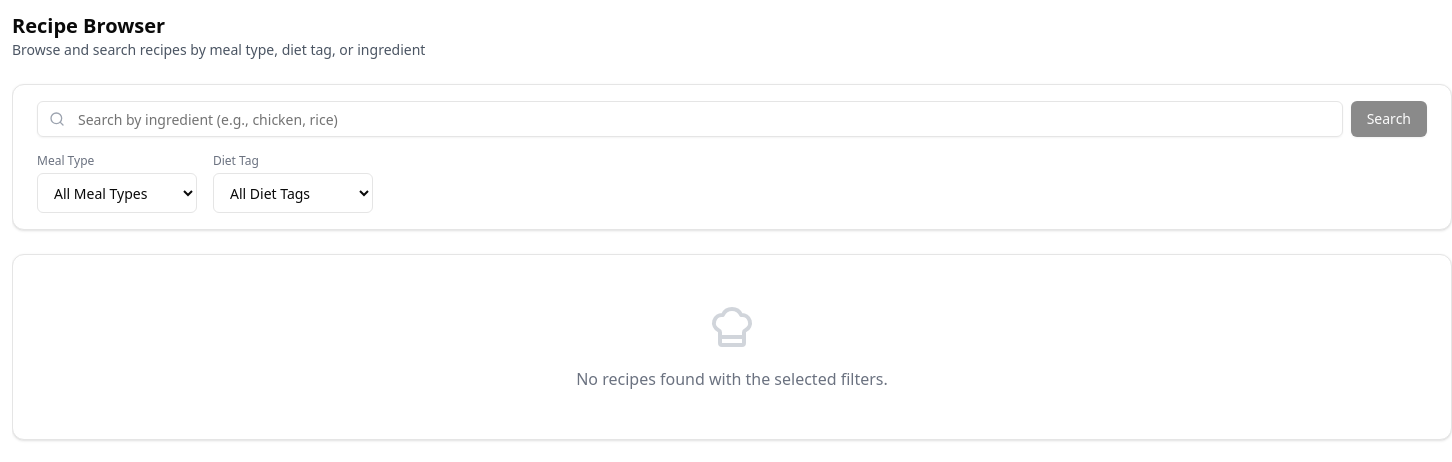
Test: RecipeBrowser › ingredient search › should show empty state with clear link when no search results
The width and height of the screenshot is (1452, 462).
Type "xyz" into the field with placeholder "Search by ingredient (e.g., chicken, rice)" at (690, 119), box [37, 101, 1343, 137]
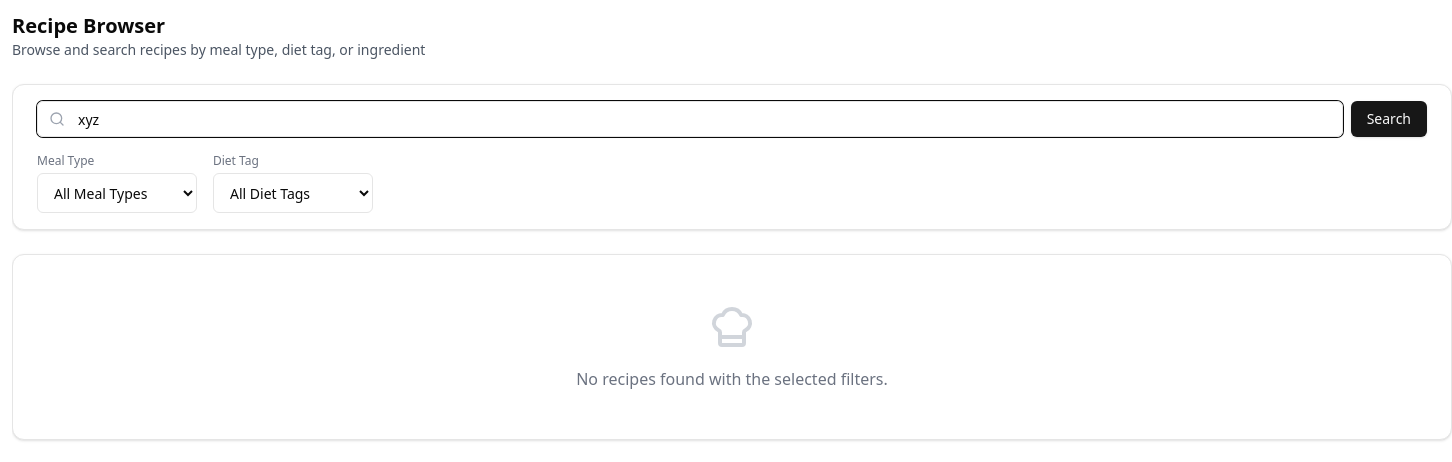
Click the button "Search" at (1389, 119), box [1351, 101, 1427, 137]
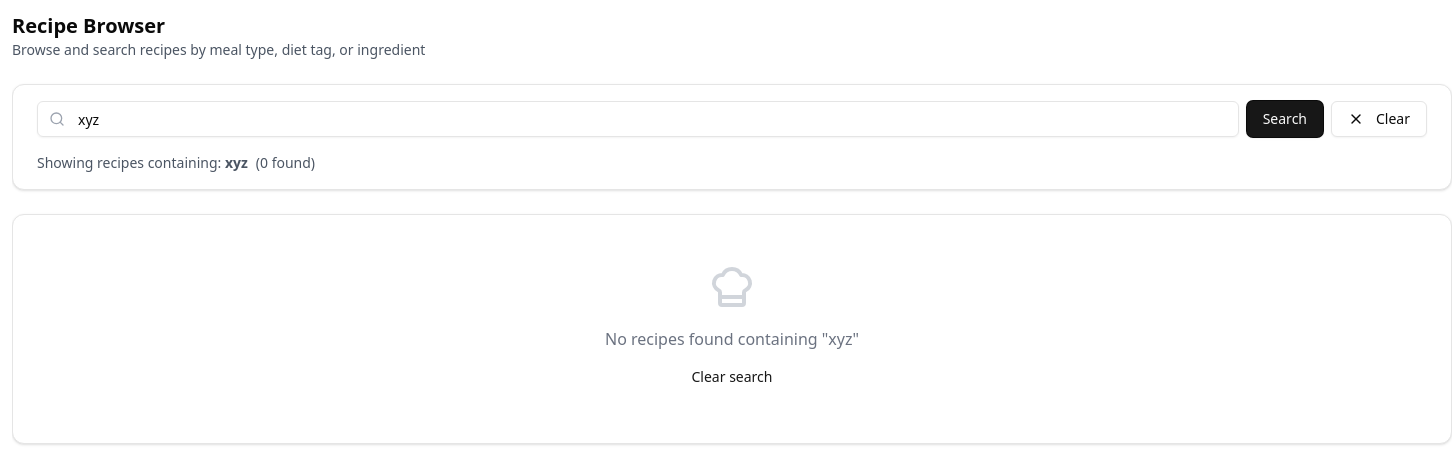
Now the text "No recipes found containing \"xyz\"" is shown, box [605, 328, 859, 350]
Now the button "Clear search" is shown, box [676, 359, 788, 395]
